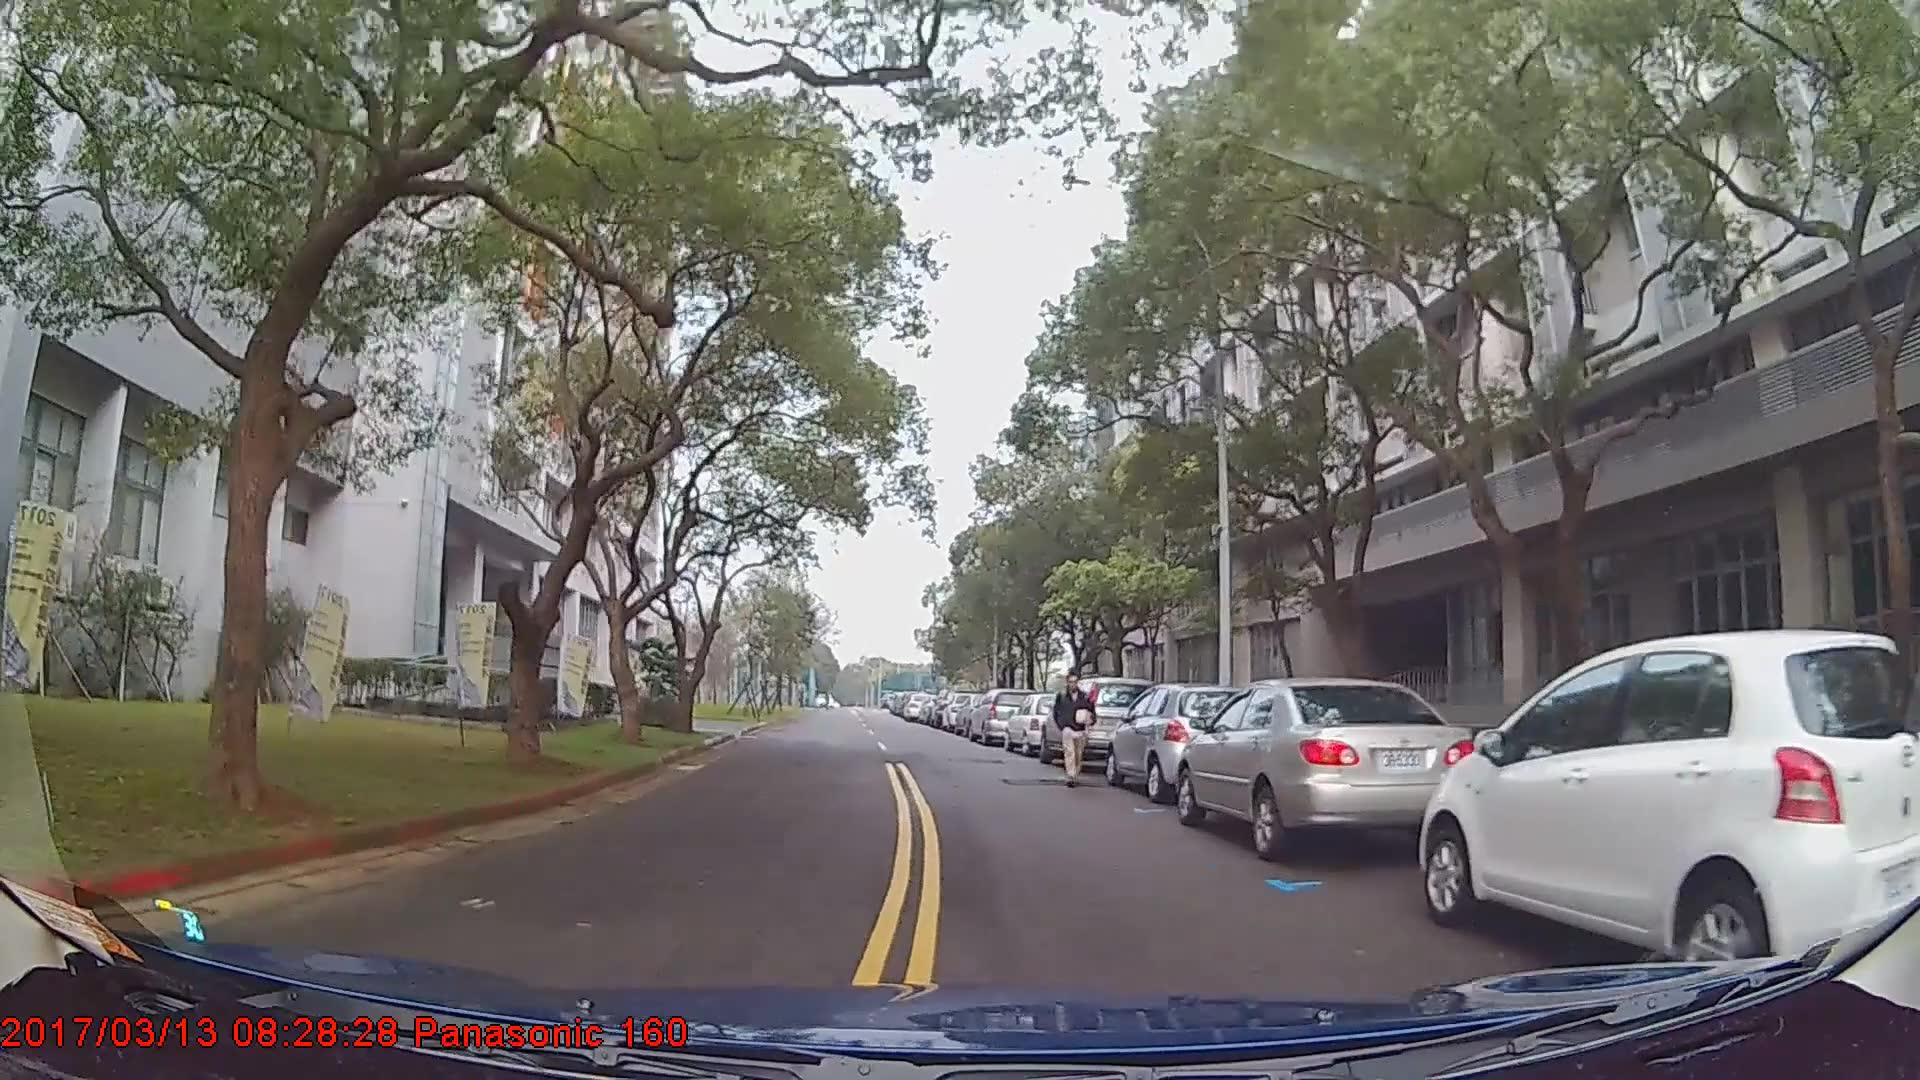pedestrian: (1054, 674, 1096, 789)
vehicle: (1418, 627, 1920, 978), (1175, 674, 1479, 861), (1106, 682, 1262, 804), (1038, 676, 1160, 775), (1003, 691, 1074, 757), (967, 686, 1038, 744)
